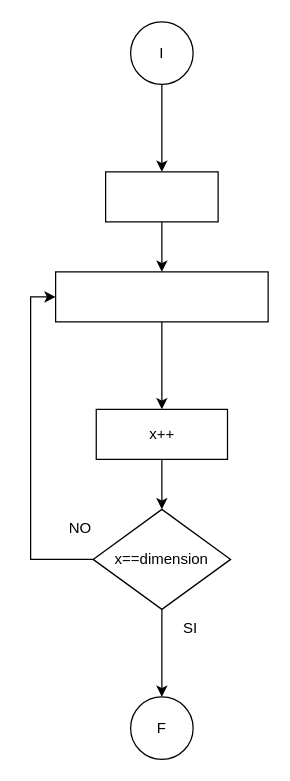
Image size: 290x781. Some labels were removed from this diagram. Here are the shapes that lost their labels. From the top down, the centre of each, then its label:
the point at 161,196: x=0
the point at 161,296: prodEscalarV+=vec1[x]*vec2[x]
